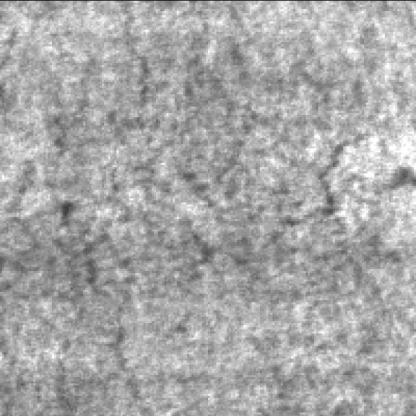crazing: (181, 127, 374, 270), (52, 232, 156, 416), (58, 4, 175, 160)
